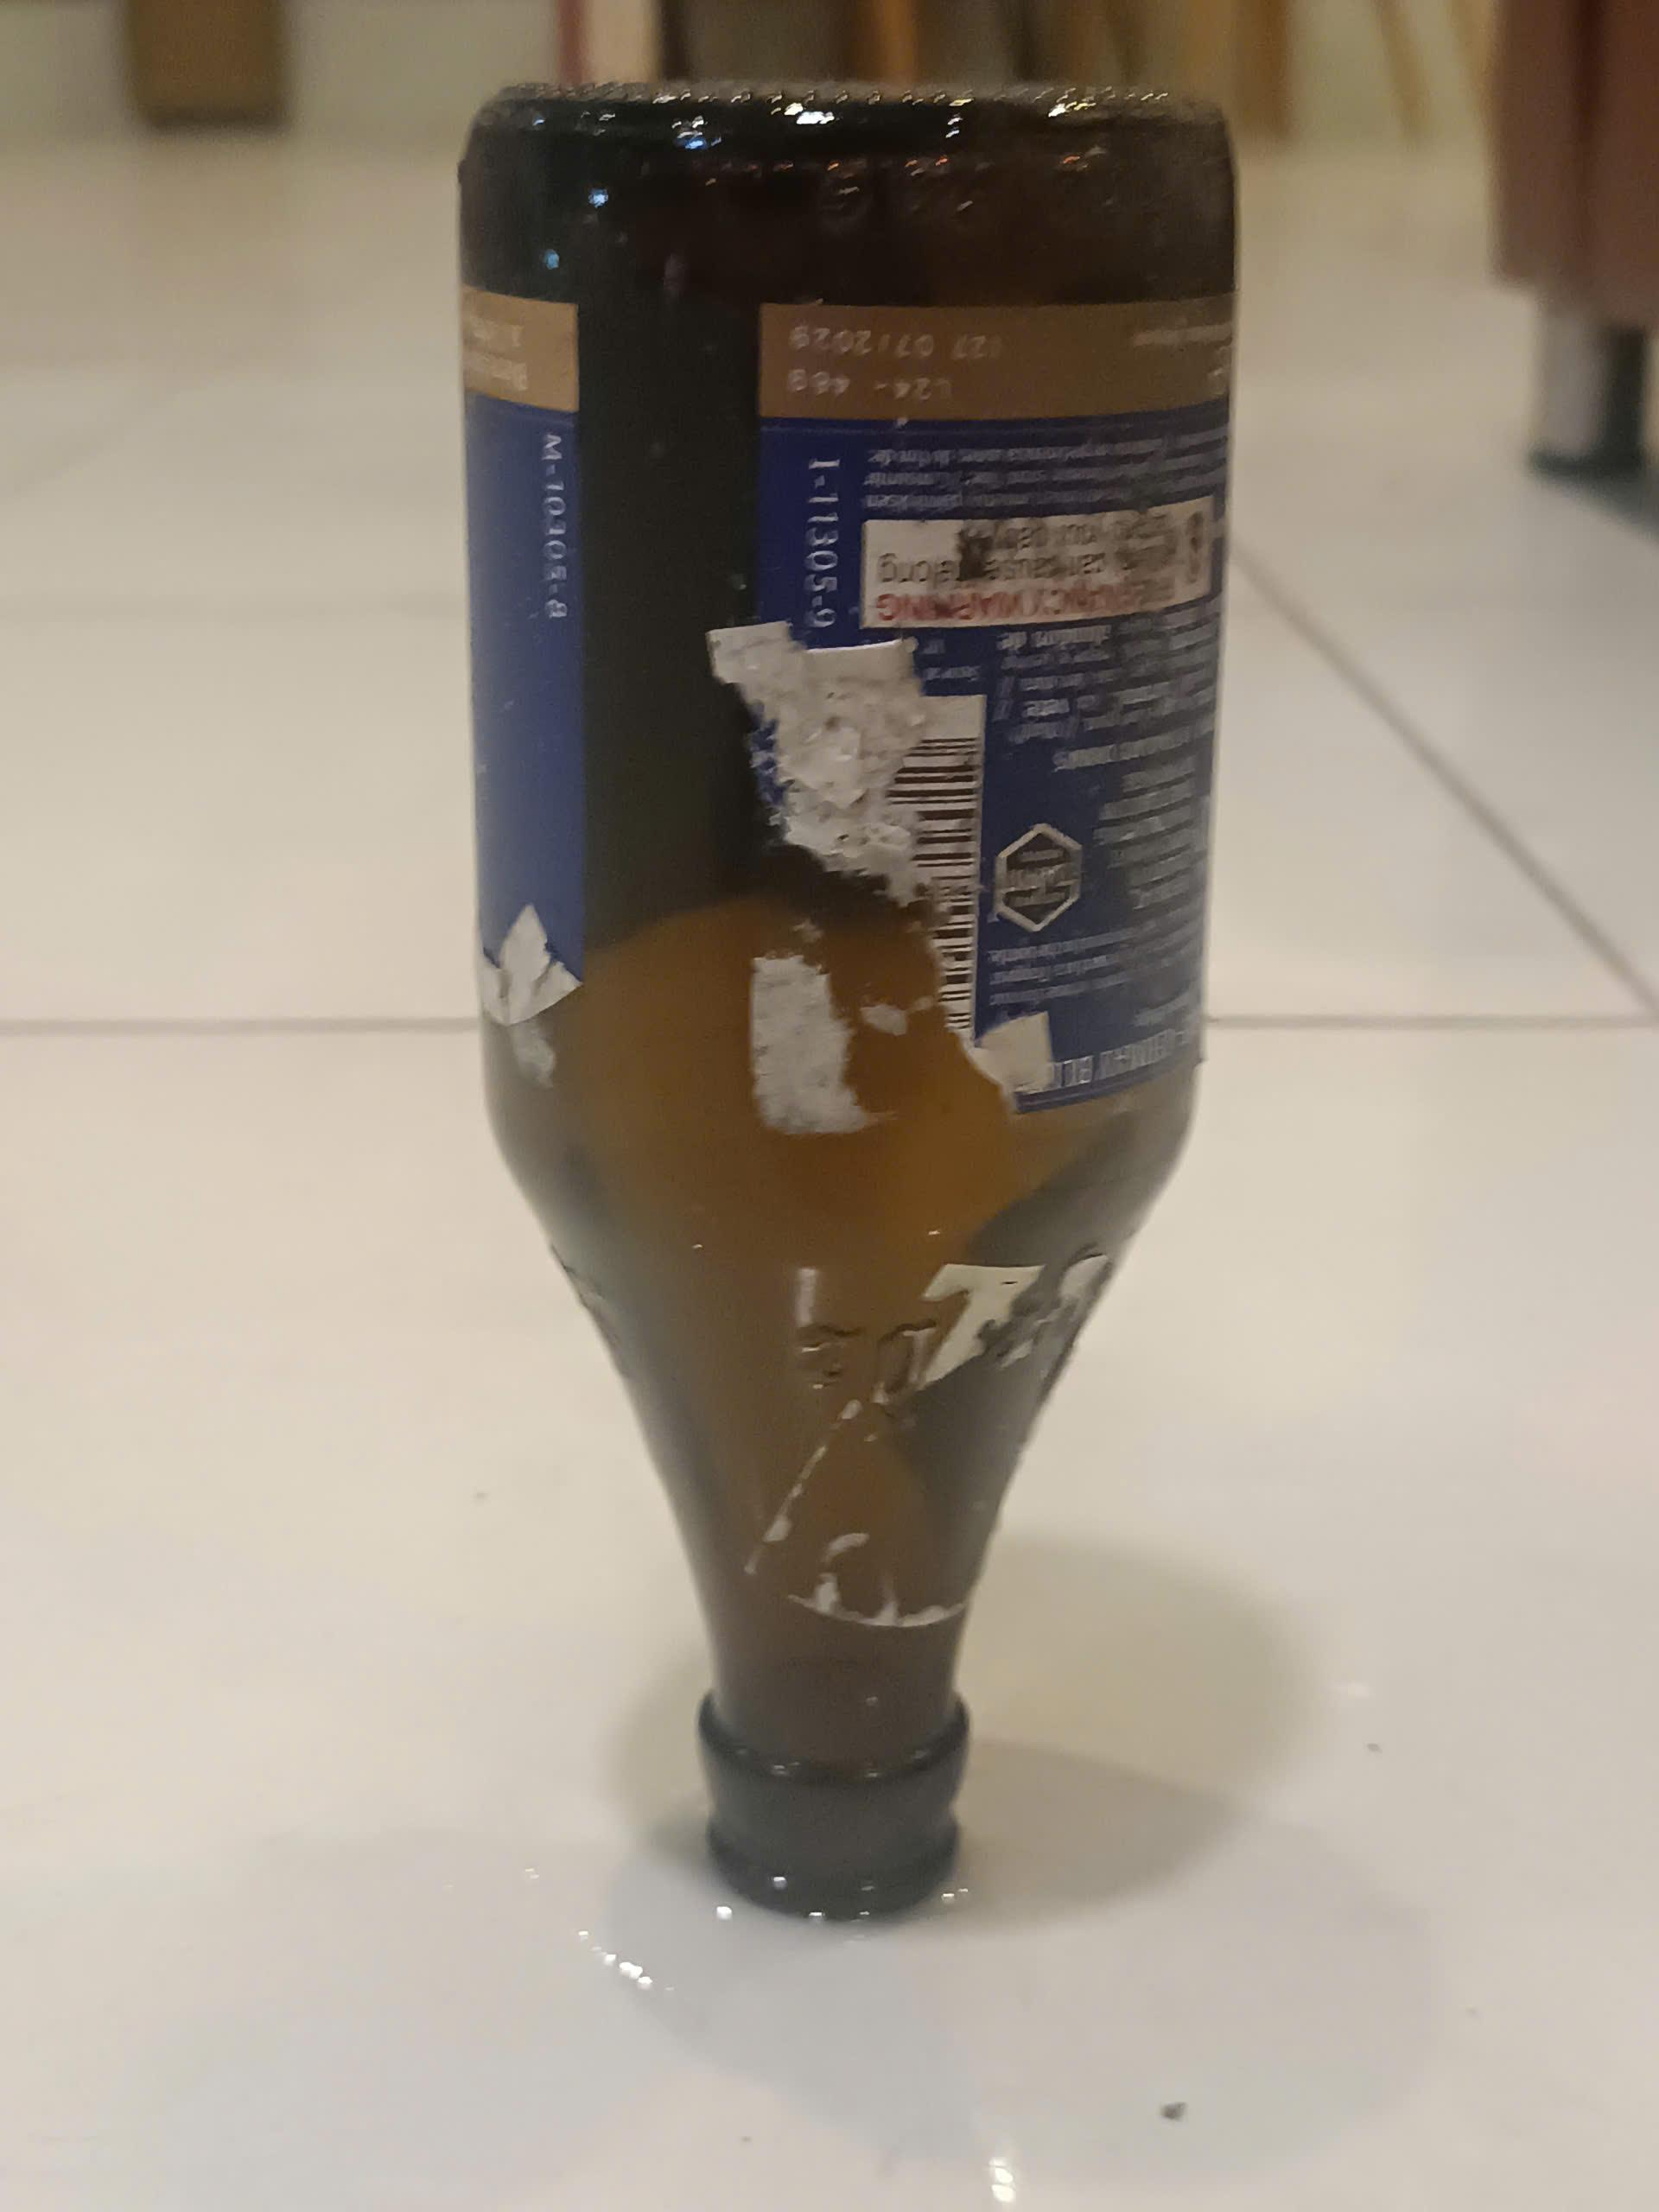Vo co: (453, 78, 1248, 1933)
